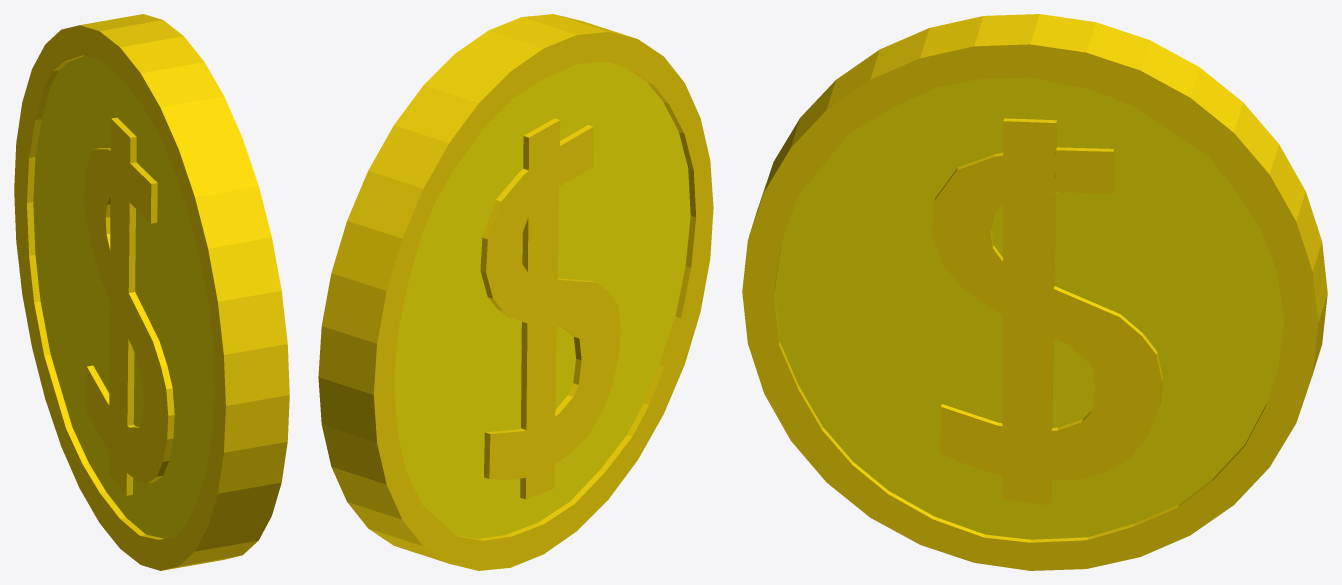
The model's file is coin2.fbx.
3 views of the same model, side by side, from view 1: azimuth 30°, elevation 25°; view 2: azimuth 150°, elevation 25°; view 3: azimuth 270°, elevation 25° (orthographic). The views are drawn at different scales.
Visible parts, largest first — view 1: Cylinder; view 2: Cylinder; view 3: Cylinder.
Part boxes in pixels (x1,y1,x2,y2): Cylinder: (14,14,289,570); Cylinder: (318,14,713,570); Cylinder: (742,14,1327,570).
Size of the model in its own units: 50.87 by 200 by 202.
